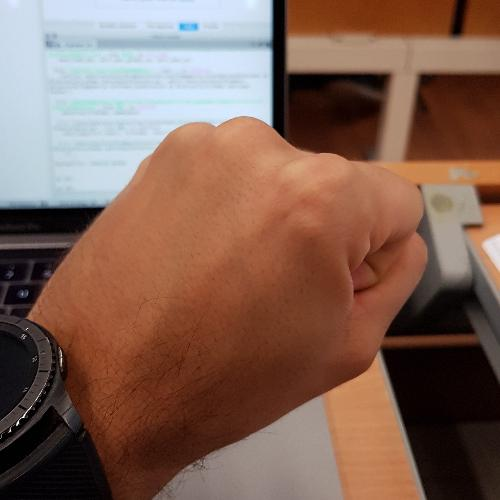rock: (19, 108, 436, 470)
